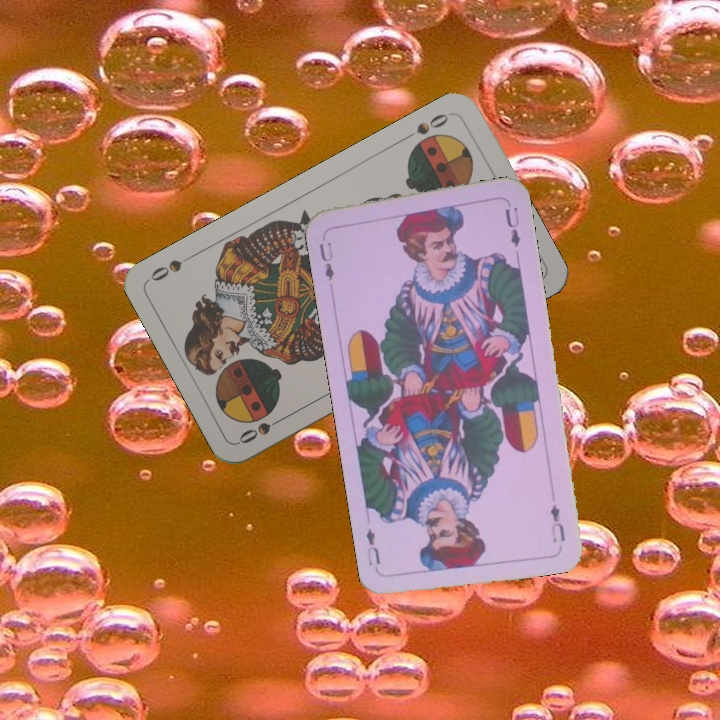EU: (315, 238, 337, 283), (546, 500, 568, 545)
SO: (234, 411, 289, 447), (400, 109, 451, 143)
